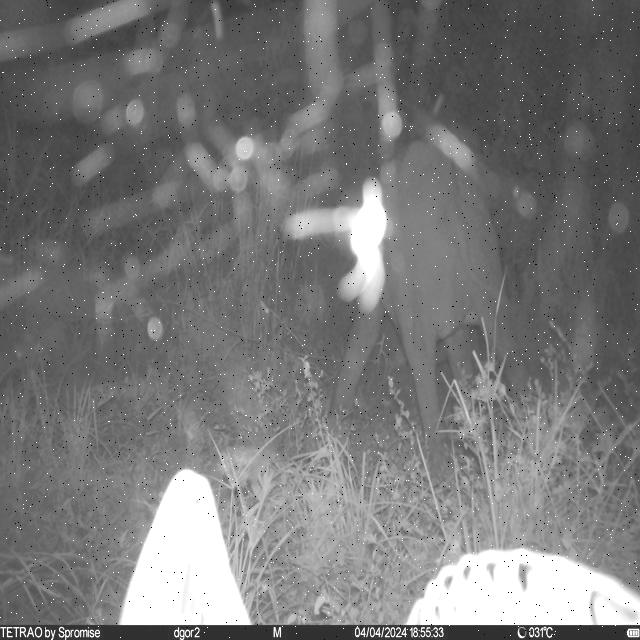calf: (326, 126, 532, 444)
